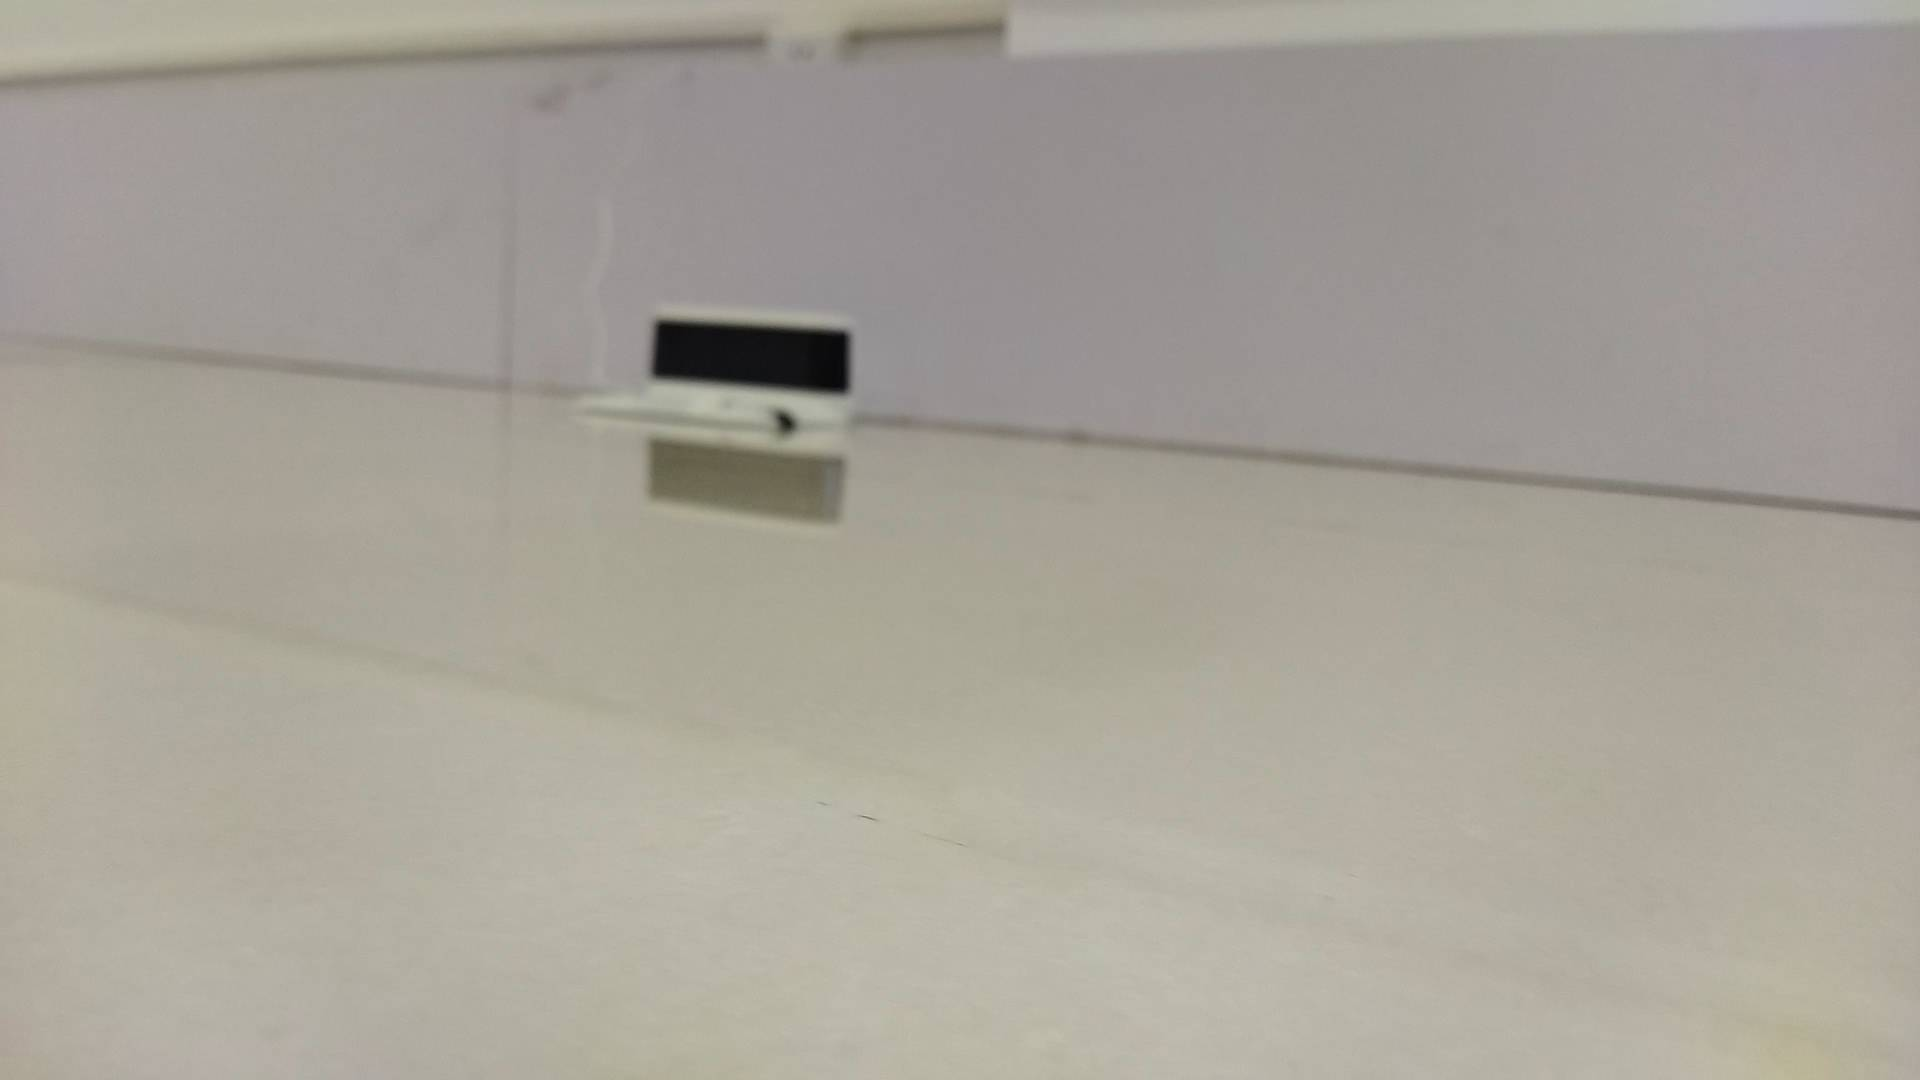recharge seat: (574, 301, 866, 430)
